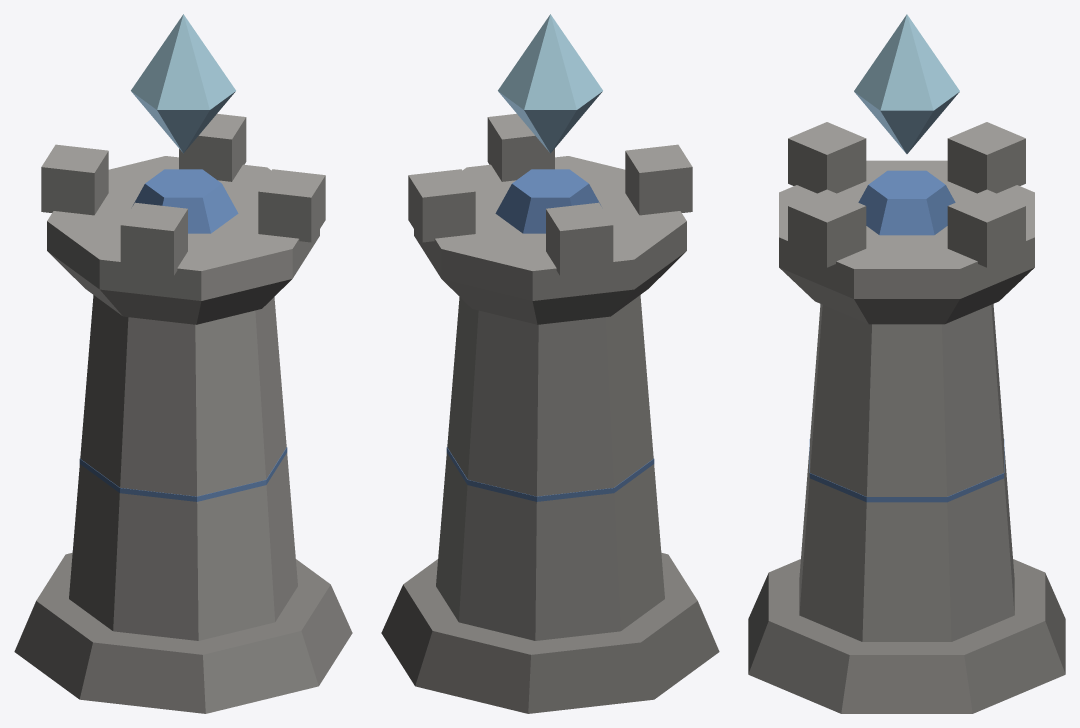
File: tower_blue.glb
The picture shows the model from 3 angles, left to right: view 1: azimuth 30°, elevation 25°; view 2: azimuth 150°, elevation 25°; view 3: azimuth 270°, elevation 25°; orthographic projection.
Size of the model in its own units: 2.86 by 6.3 by 2.86.
